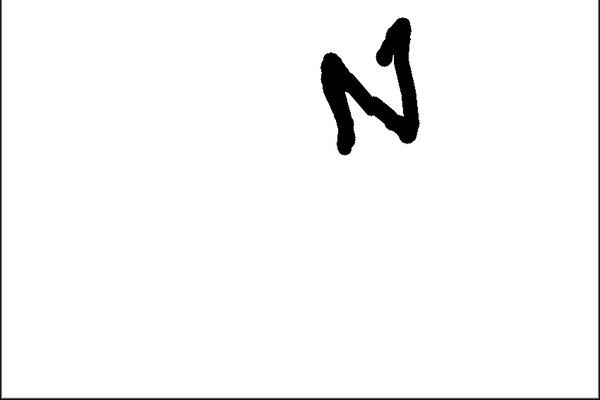N: (314, 14, 425, 160)
